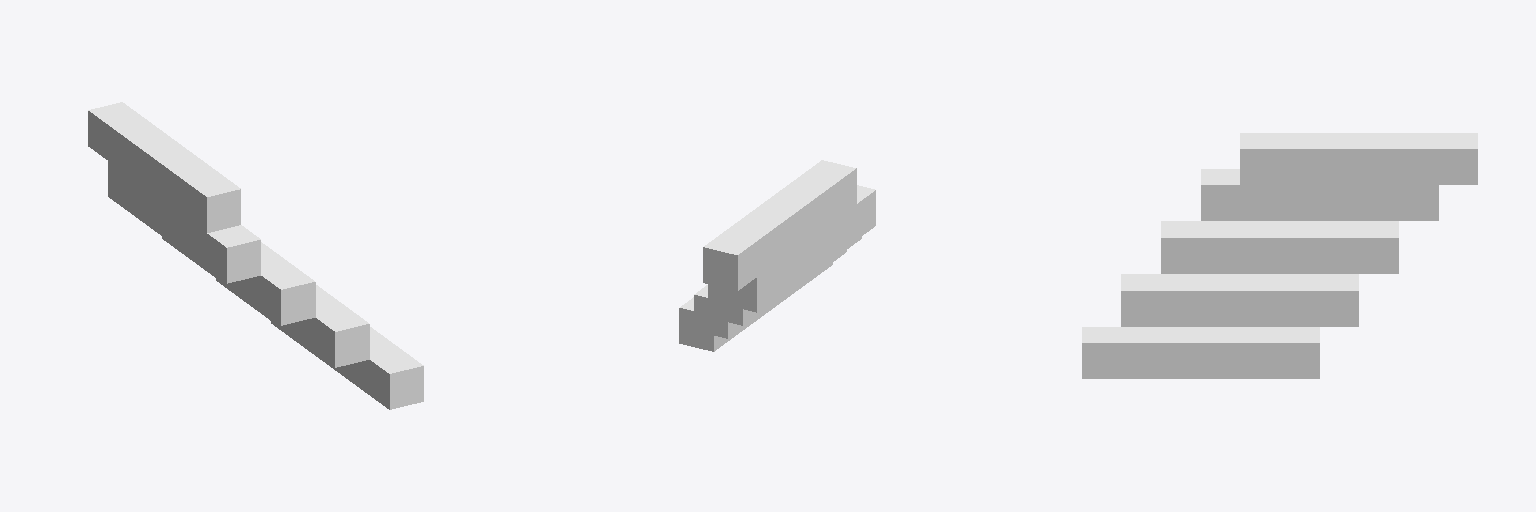
The model's file is Other-10.obj.
3 renders of one model, left to right at view 1: azimuth 30°, elevation 25°; view 2: azimuth 150°, elevation 25°; view 3: azimuth 270°, elevation 25°, orthographic.
Visible parts, largest first — view 1: object 1; view 2: object 1; view 3: object 1.
Part boxes in pixels (x1,y1,x2,y2): object 1: (88,102,423,409); object 1: (679,160,875,351); object 1: (1082,133,1477,378).
Size of the model in its own units: 0.4 by 0.5 by 1.